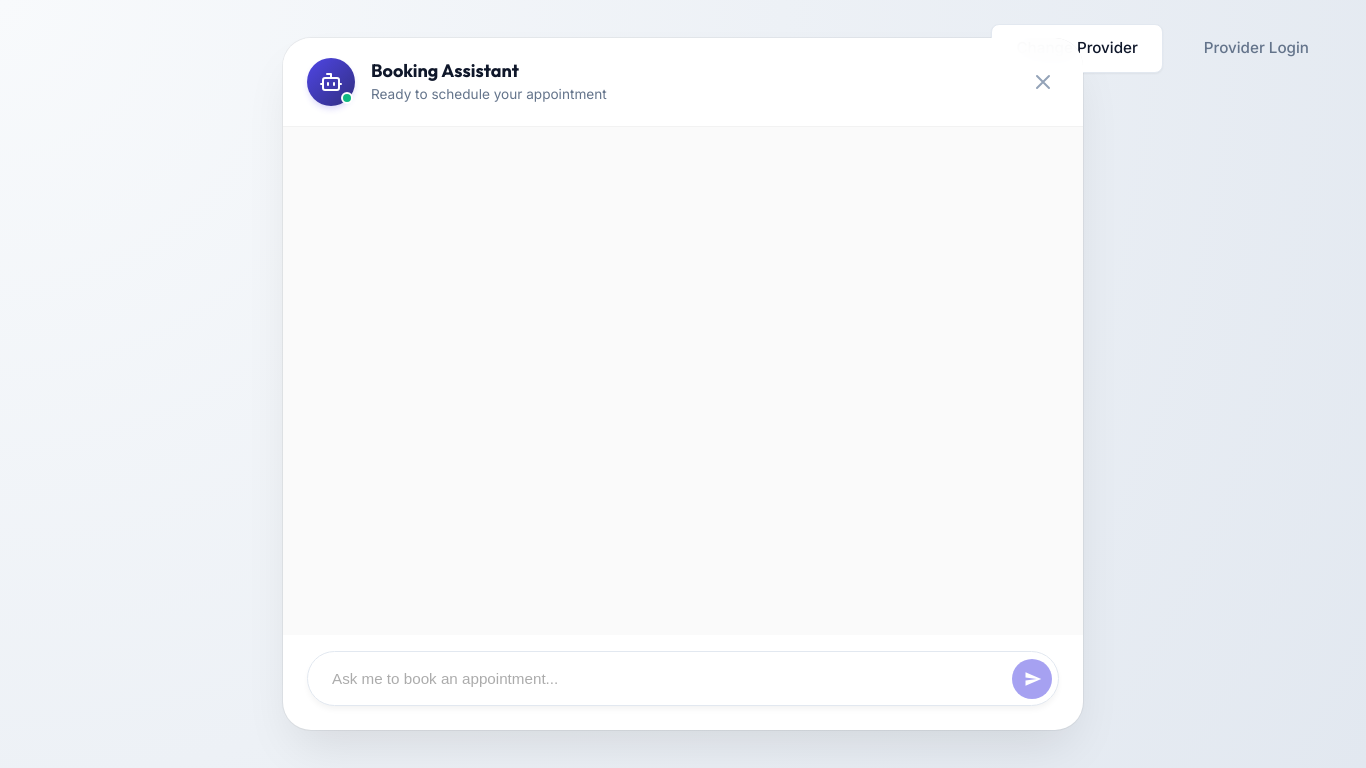
Chatbot › sends message and handles successful response
The width and height of the screenshot is (1366, 768).
Expected: the heading "Booking Assistant" is shown, [371,59,519,82]
Step 1. Type "Hello" into the field with placeholder "Ask me to book an appointment..." → (668, 678), box [332,658,1004,699]
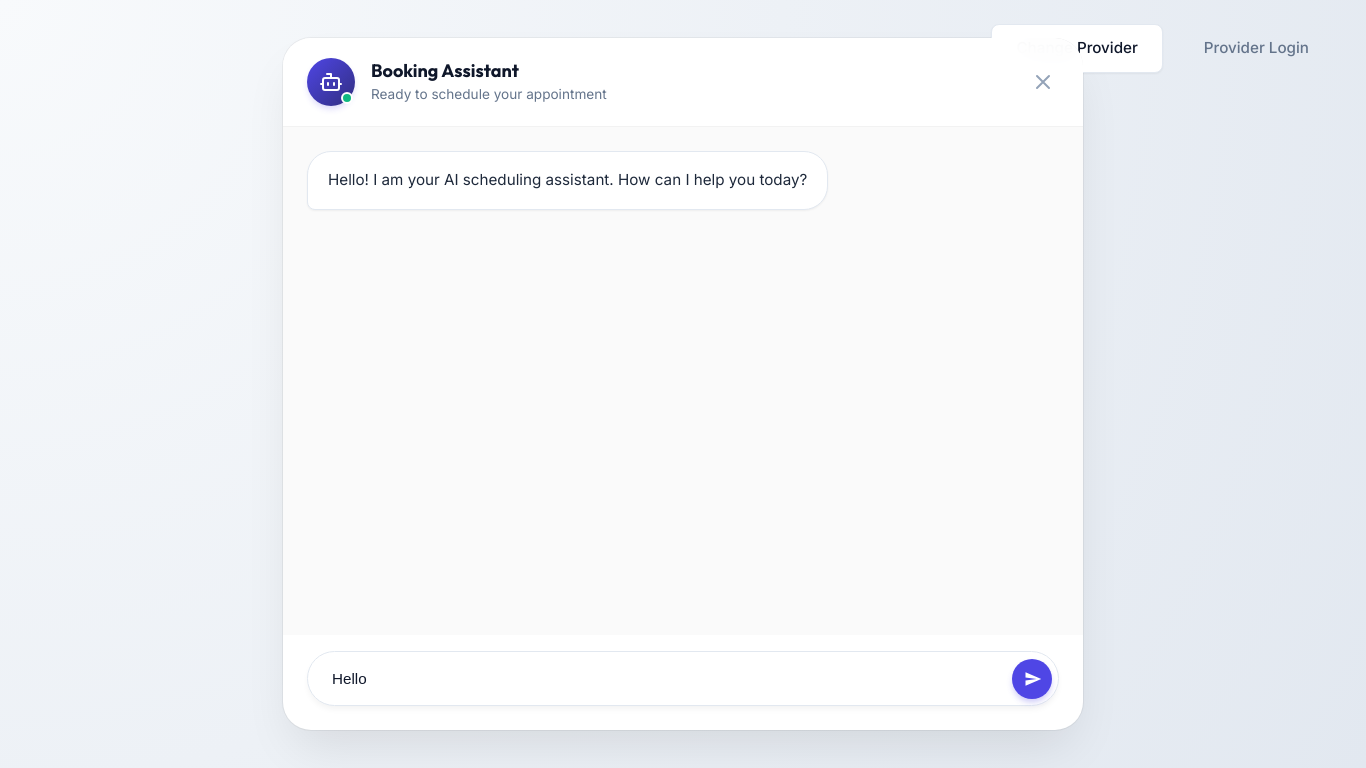
Step 2. Click the button named "Send message" → (1032, 678), box [1012,658,1052,698]
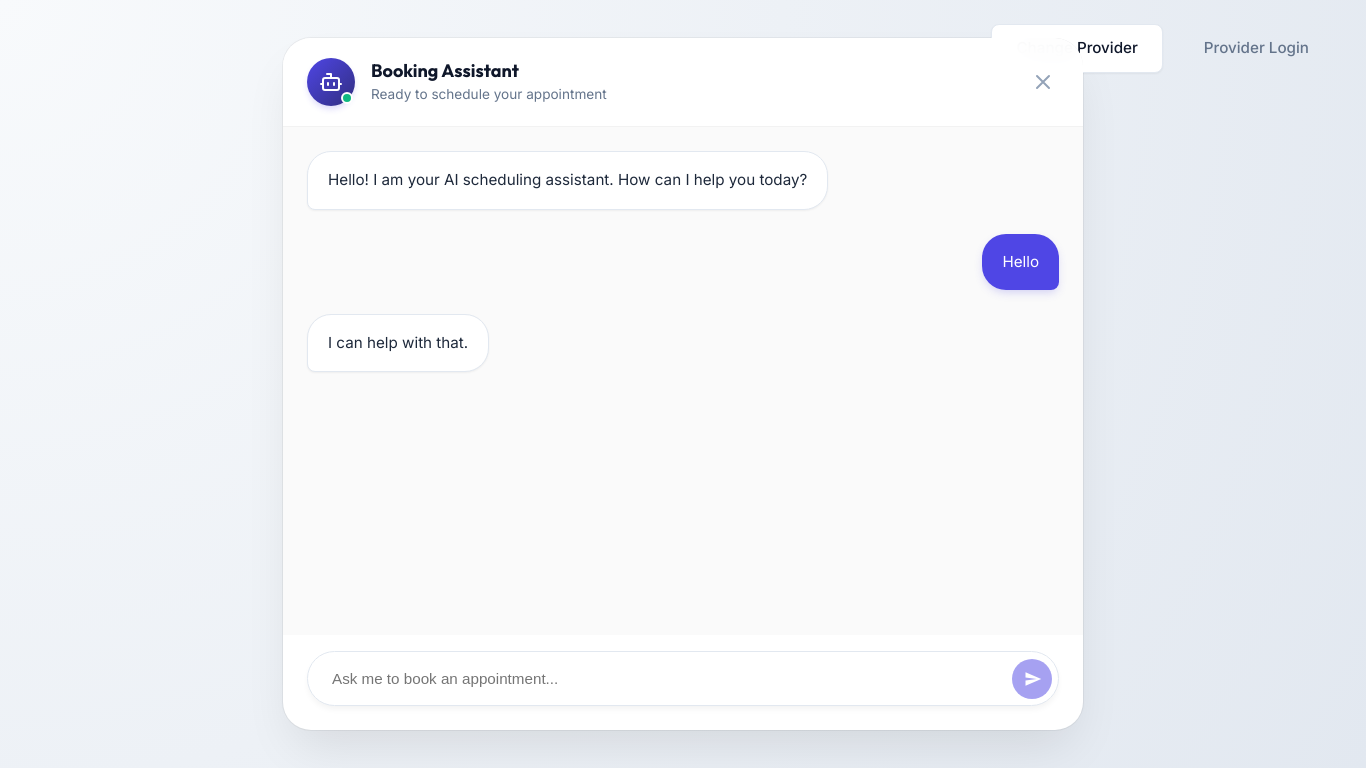
Now the text "Hello" is shown, box [1002,250,1039,274]
Now the text "I can help with that." is shown, box [328,331,468,355]
